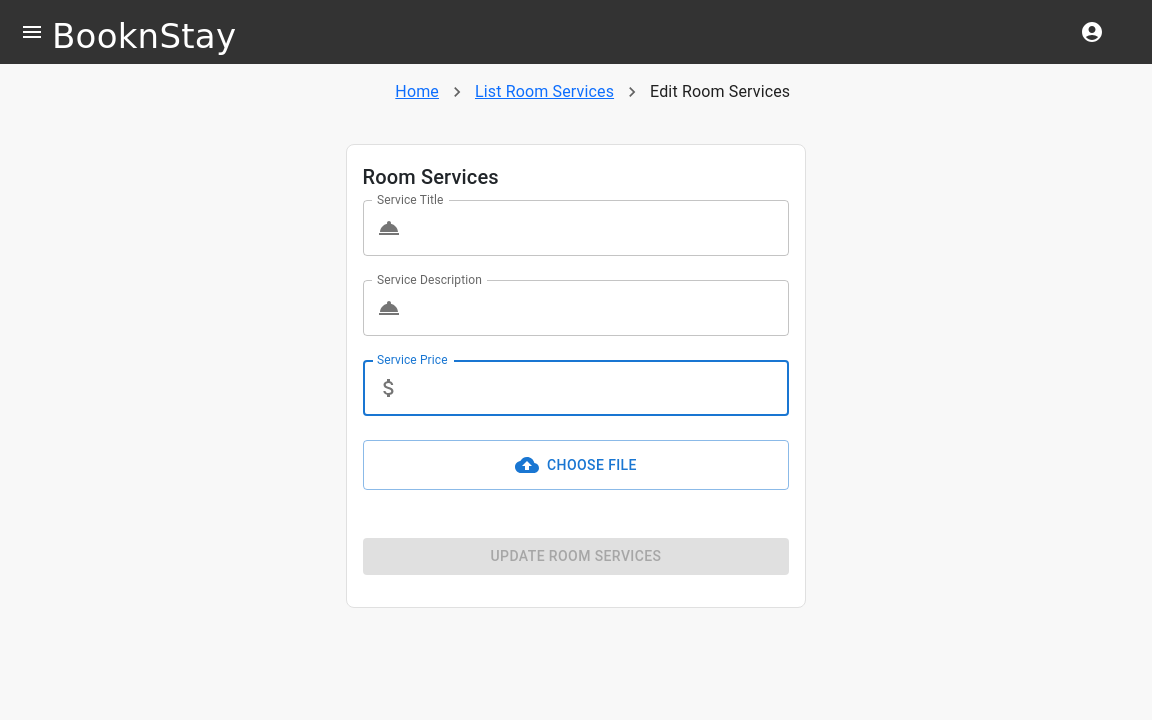
Test: EditRoomDetails Component › handles service title with  invalid characters
In the field labelled "Service Title": {"x": 599, "y": 228} [409, 200, 789, 256], type "Title123"
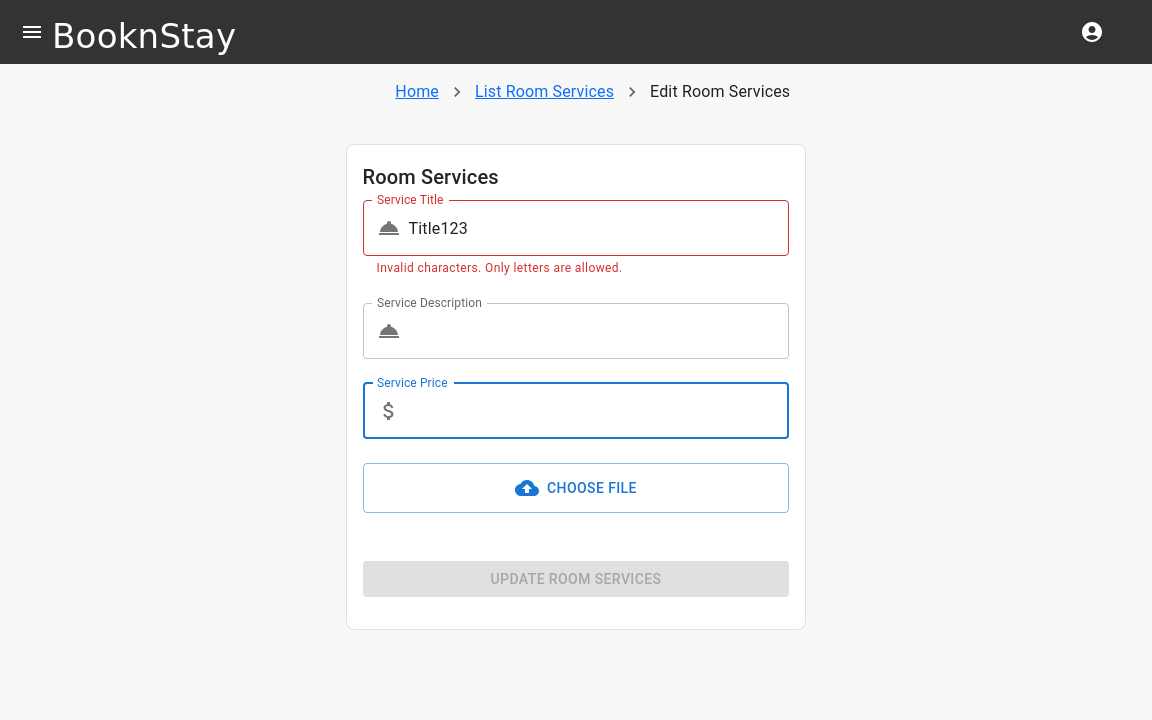
Check: the text "Invalid characters. Only letters are allowed." is shown, box [377, 261, 623, 275]
